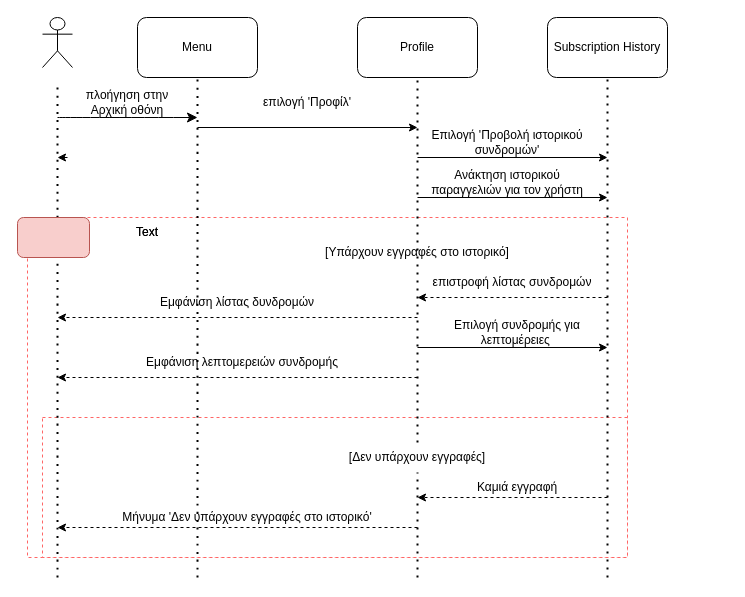
This 745x597 diagram has some shape labels left out. The centre of each missing label's shape, as x and y in pixels:
alt: point 53,237
Χρήστης: point 57,42
